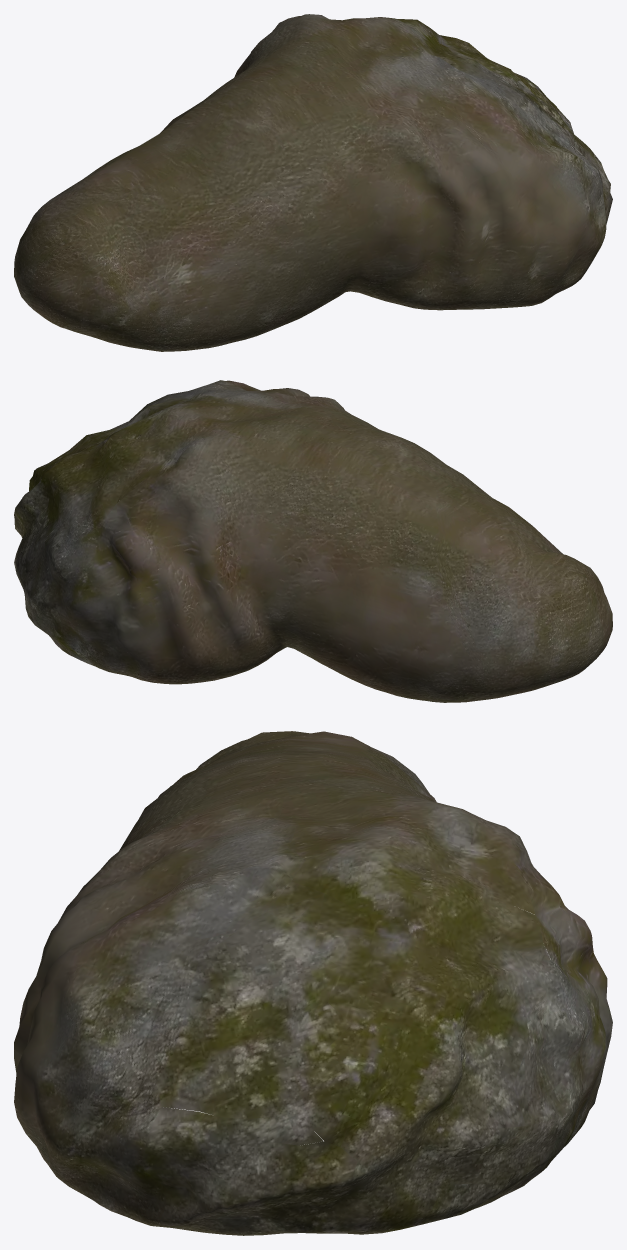
File: boulder.glb
3 renders of one model, top to bottom at view 1: azimuth 30°, elevation 25°; view 2: azimuth 150°, elevation 25°; view 3: azimuth 270°, elevation 25°, orthographic. The views are drawn at different scales.
Visible parts, largest first — view 1: tripo_node_353e0668-22b2-4bb2-84f1-3b04d0027d67; view 2: tripo_node_353e0668-22b2-4bb2-84f1-3b04d0027d67; view 3: tripo_node_353e0668-22b2-4bb2-84f1-3b04d0027d67.
Boxes of the visible parts, left/top/right/bottom form: tripo_node_353e0668-22b2-4bb2-84f1-3b04d0027d67: left=14, top=14, right=612, bottom=351; tripo_node_353e0668-22b2-4bb2-84f1-3b04d0027d67: left=14, top=380, right=612, bottom=702; tripo_node_353e0668-22b2-4bb2-84f1-3b04d0027d67: left=14, top=731, right=612, bottom=1235.
Bounding box in the file's own units: 0.9995 × 0.3803 × 0.6567.
1 material, 1 textured.
